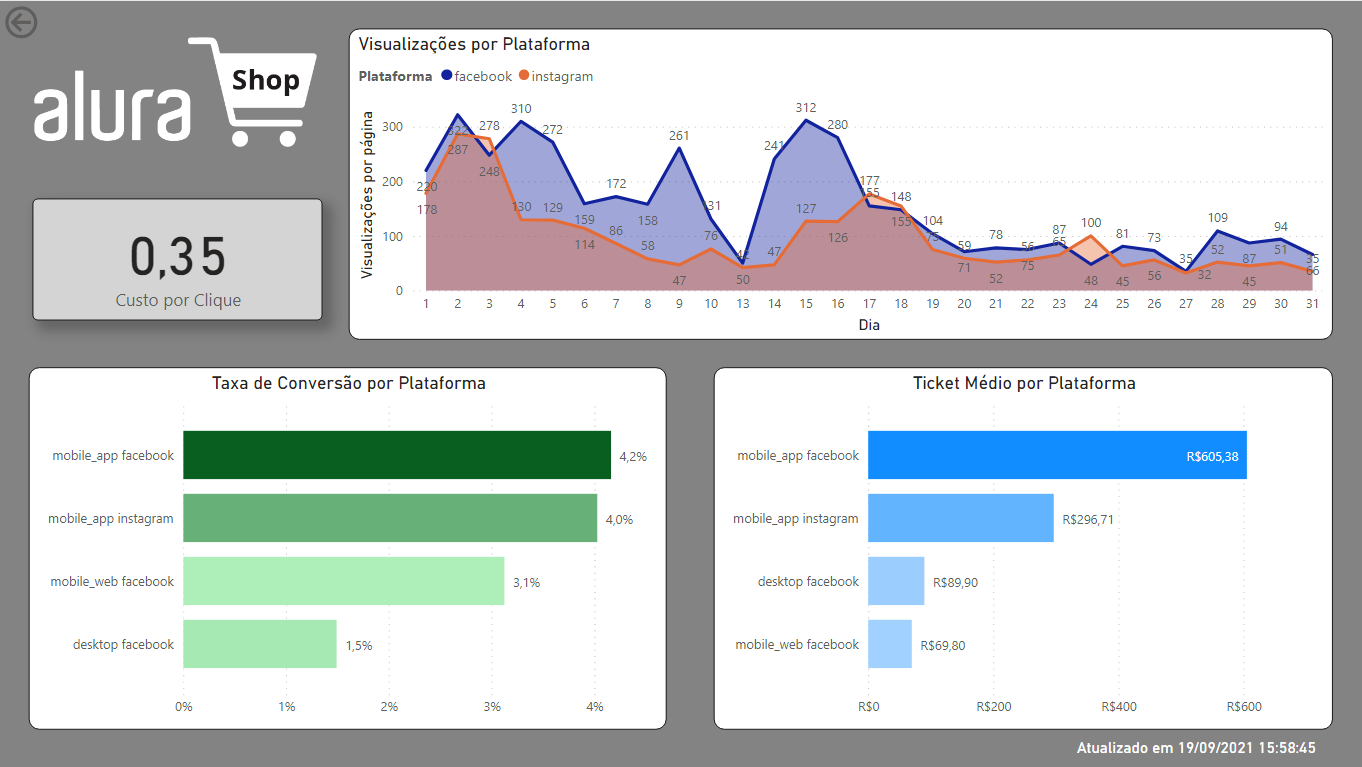

Layout of this report page (visuals, bound fields, positions):
{"tool":"powerbi","page":{"name":"Plataforma","canvas":[1280,720],"ordinal":2},"visuals":[{"type":"image","box":[27,25.6,275.6,118.4],"z":4000},{"type":"card","fields":{"Values":["Tabela_dispositivos.Custo por Clique Plataforma"]},"box":[30.9,185.4,271.7,114.6],"z":7000},{"type":"clusteredBarChart","title":"Taxa de Conversão por Plataforma","fields":{"Y":["Tabela_dispositivos.Tx Conversao Plataforma"],"Category":["Tabela_dispositivos.Plataforma do dispositivo","Tabela_dispositivos.Plataforma"]},"box":[27,343.8,598.8,340],"z":8000},{"type":"clusteredBarChart","title":"Ticket Médio por Plataforma","fields":{"Category":["Tabela_dispositivos.Plataforma do dispositivo","Tabela_dispositivos.Plataforma"],"Y":["Avg(Tabela_dispositivos.Valor de conversão de compras)"]},"box":[669.6,343.8,580.8,340],"z":10000},{"type":"actionButton","box":[0,0,100,40],"z":11000},{"type":"areaChart","title":"Visualizações por Plataforma","fields":{"Category":["Tabela_dispositivos.Dia.Variation.Hierarquia de datas.Dia"],"Y":["Sum(Tabela_dispositivos.Visualizações por página)"],"Series":["Tabela_dispositivos.Plataforma"]},"box":[327.1,25.8,923.3,292.3],"z":11001},{"type":"card","fields":{"Values":["Atualização.Atualização"]},"box":[994.1,683.8,256.3,36.1],"z":11002}]}

Visuals, with their boxes in screenshot pixels (x1, y1, x2, y2), scaled from the page's 1280x720 canvas onto the 1362x767 screenshot:
image: Rect(29, 27, 322, 153)
card - Tabela_dispositivos.Custo por Clique Plataforma: Rect(33, 198, 322, 320)
"Taxa de Conversão por Plataforma" clusteredBarChart: Rect(29, 366, 666, 728)
"Ticket Médio por Plataforma" clusteredBarChart: Rect(712, 366, 1331, 728)
actionButton: Rect(0, 0, 106, 43)
"Visualizações por Plataforma" areaChart: Rect(348, 27, 1331, 339)
card - Atualização.Atualização: Rect(1058, 728, 1331, 766)
